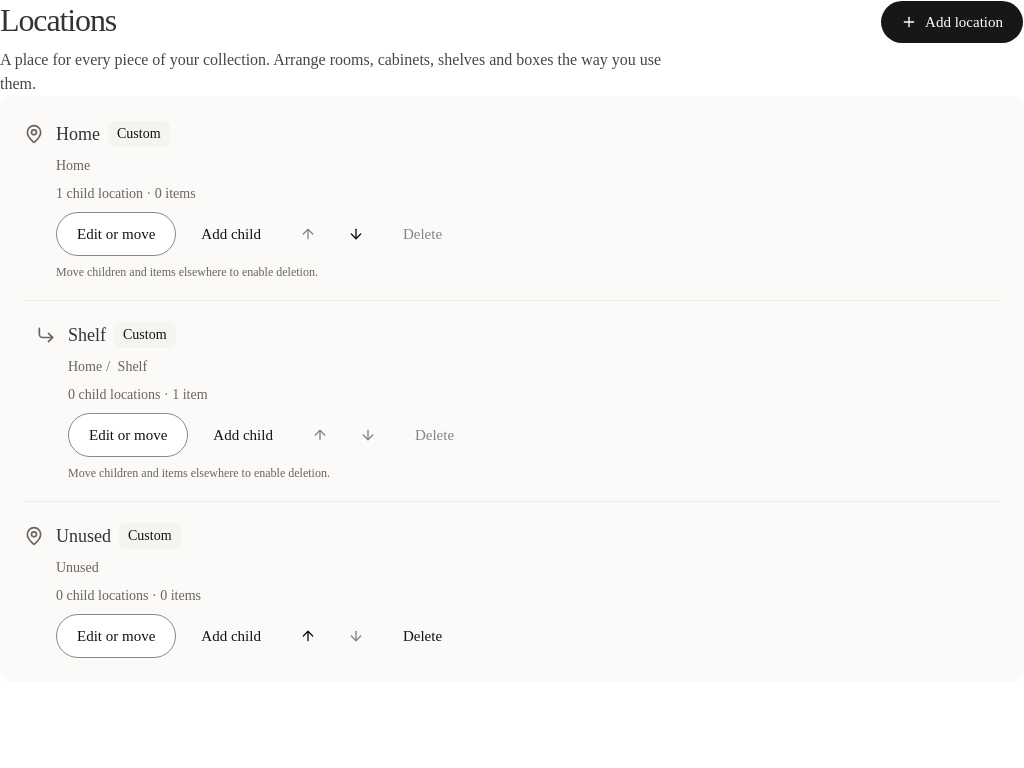
Scenario: disables deletion for occupied locations and offers a confirmation for unused leaves
Expected: the button with aria-label "Delete Home" is disabled, [382,212,463,256]
Expected: the button with aria-label "Delete Shelf" is disabled, [394,413,475,457]
What coordinates should you click on to do the following:
click the button with aria-label "Delete Unused"
I would click on:
 (422, 636)
Its box is [382,614,463,658].
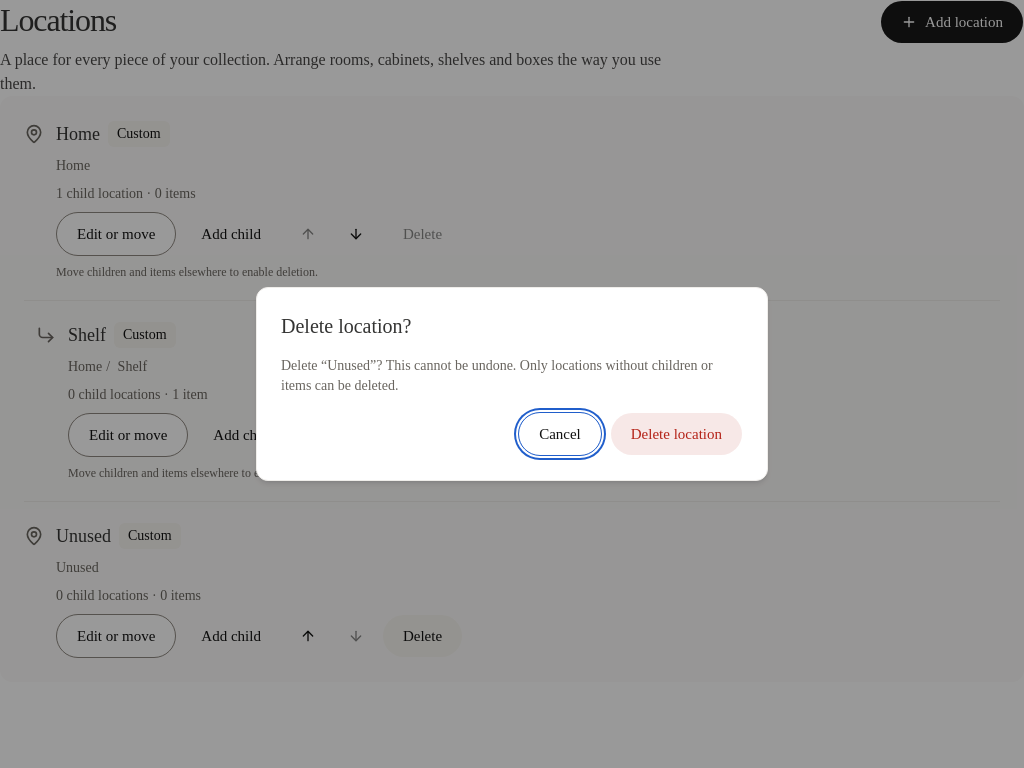
Expected: the dialog shows "This cannot be undone", [281,358,713,393]
